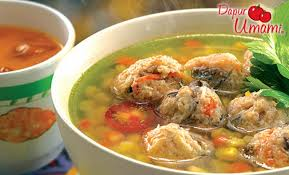soto: (68, 17, 289, 167)
